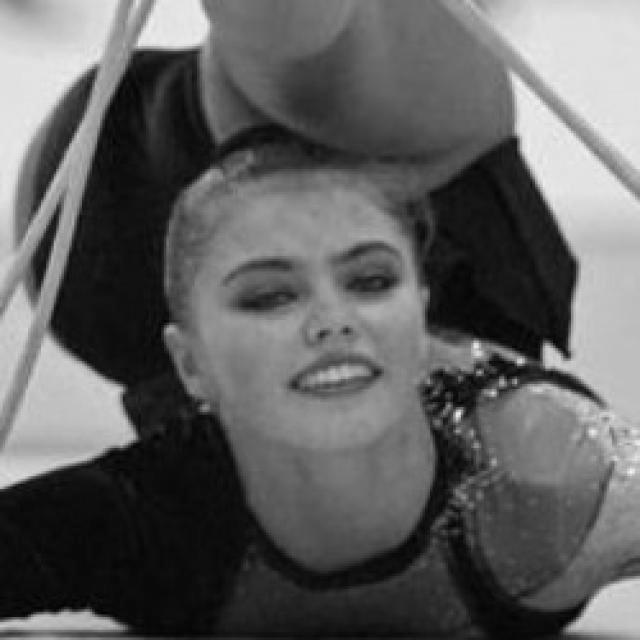real: (174, 176, 444, 462), (216, 246, 399, 312)
